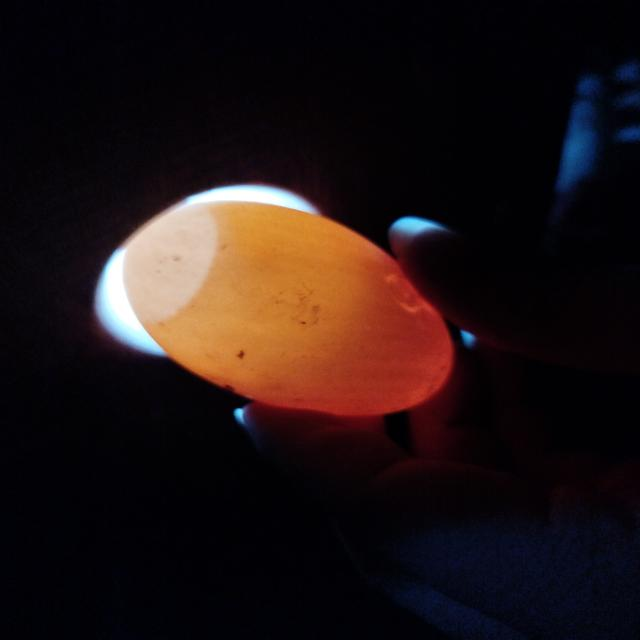Camara de Ar: (123, 203, 218, 324)
Rachadura: (390, 275, 423, 309)
